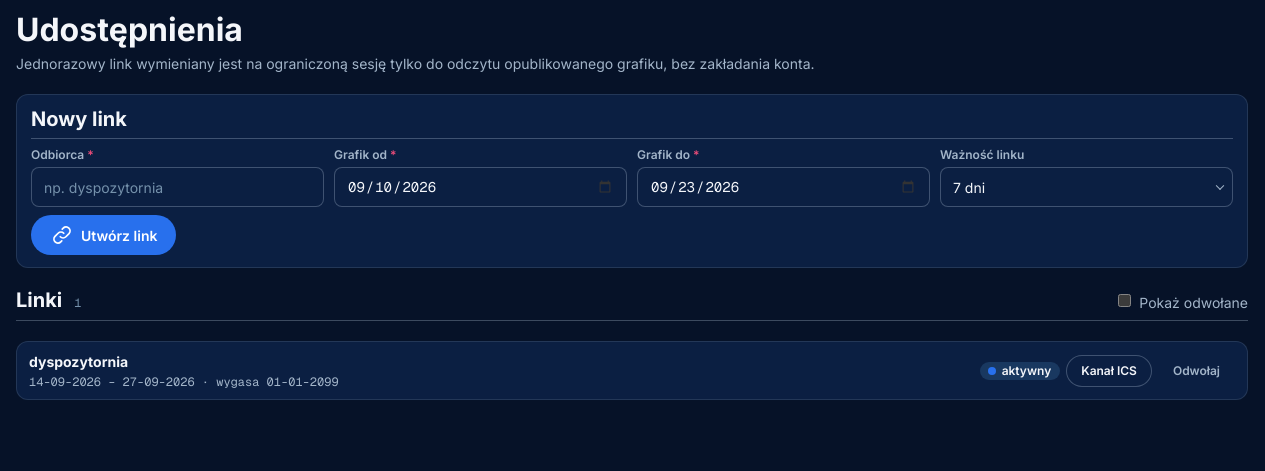
it: ShareLinksPanel list › shows why a feed could not be created
Click the button "Kanał ICS": x=1109, y=370 [1066, 354, 1152, 386]
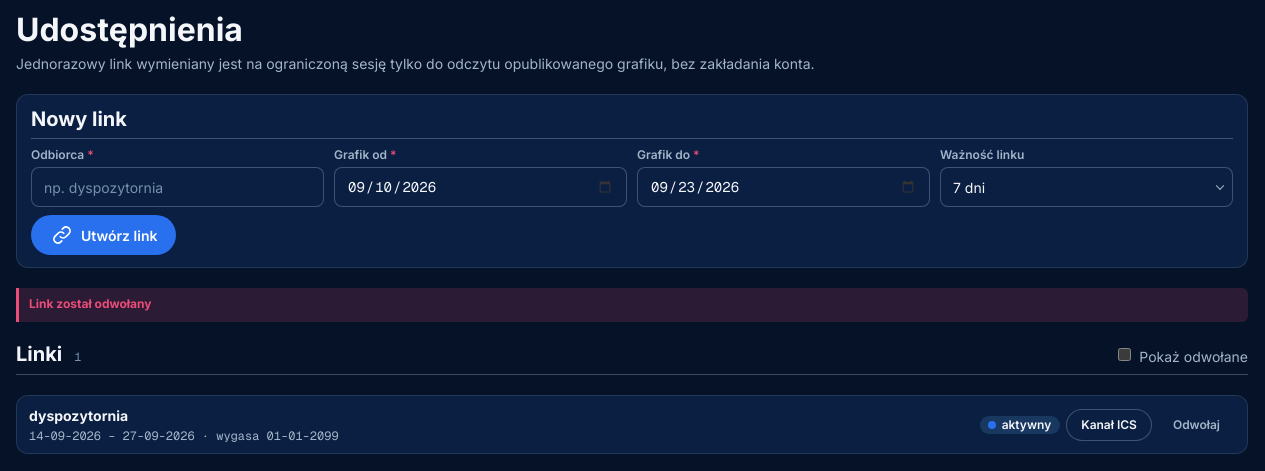
Expected: the message reads "Link został odwołany", [29, 296, 152, 311]
